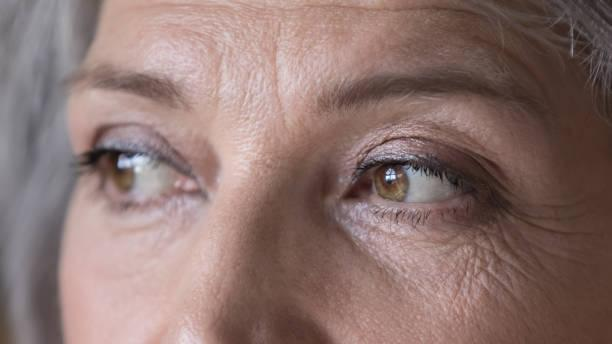Dry-Skin: (352, 8, 549, 128), (502, 145, 612, 285), (84, 242, 209, 344), (196, 0, 321, 95), (395, 254, 528, 317)
